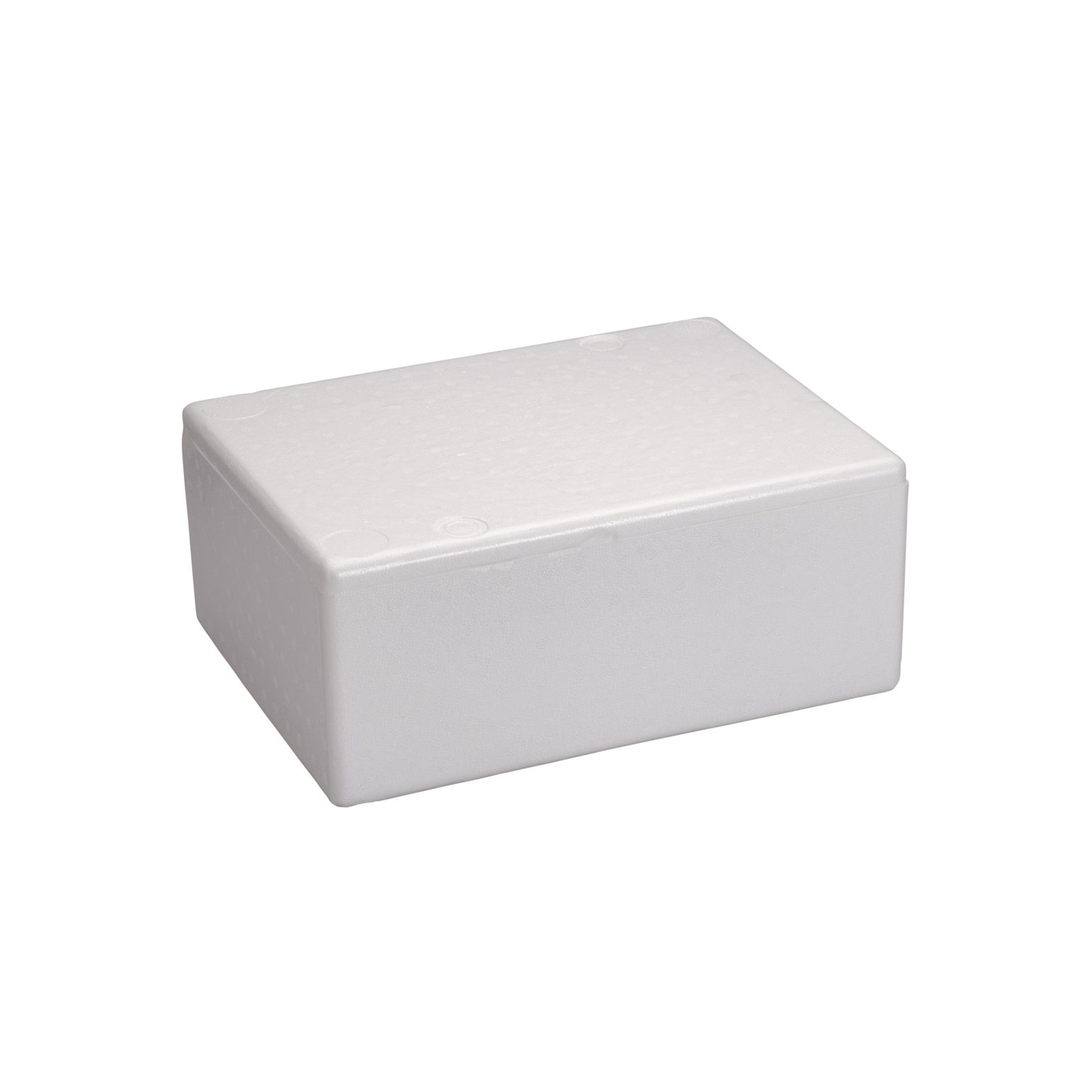Boxes: (182, 319, 908, 806)
